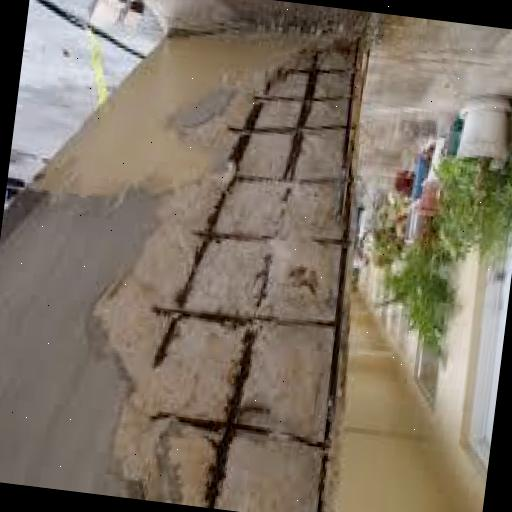spalling: (95, 31, 366, 512)
